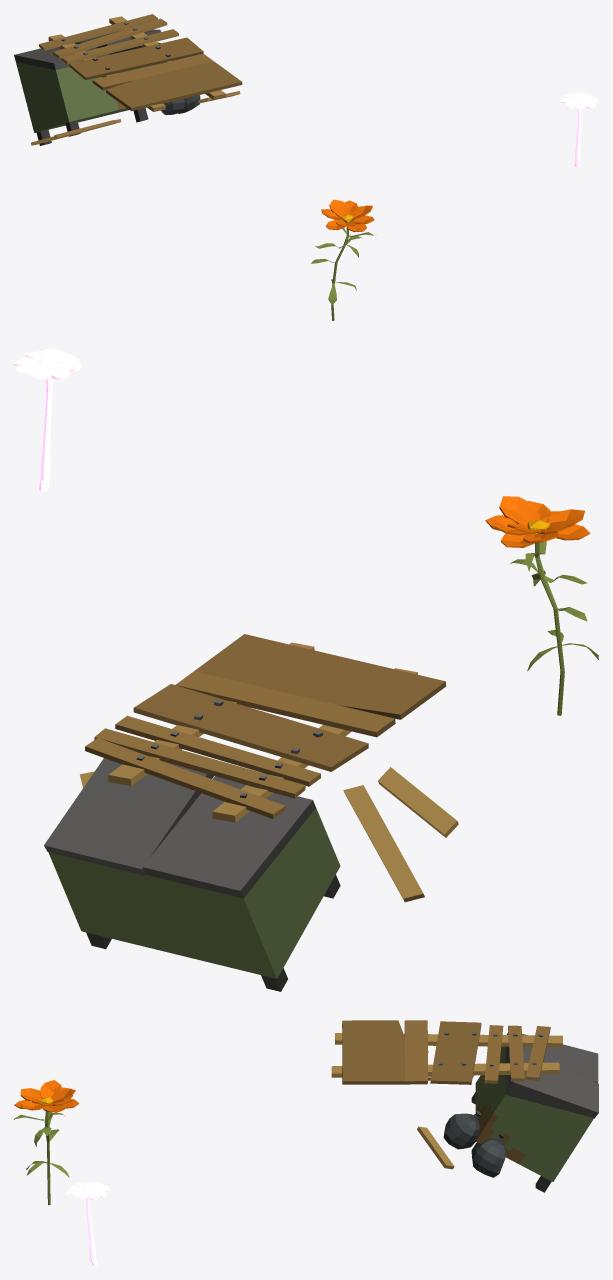
The model's file is onclick1.gltf.
3 views of the same model, one above another, from view 1: azimuth 30°, elevation 25°; view 2: azimuth 150°, elevation 25°; view 3: azimuth 270°, elevation 25° (orthographic). The views are drawn at different scales.
Visible parts, largest first — view 1: Poubelle, Calendula, Fleur; view 2: Poubelle, Calendula, Fleur; view 3: Poubelle, Calendula, Fleur.
Boxes of the visible parts, left/top/right/bottom form: Poubelle: left=14, top=14, right=242, bottom=145; Calendula: left=311, top=199, right=374, bottom=320; Fleur: left=560, top=93, right=598, bottom=166; Poubelle: left=44, top=634, right=458, bottom=991; Calendula: left=485, top=496, right=598, bottom=715; Fleur: left=14, top=349, right=81, bottom=491; Poubelle: left=331, top=1020, right=598, bottom=1192; Calendula: left=14, top=1080, right=79, bottom=1205; Fleur: left=66, top=1182, right=110, bottom=1265.
Bounding box in the file's own units: 26.36 × 9.42 × 30.61.
3 materials, 2 textured.
